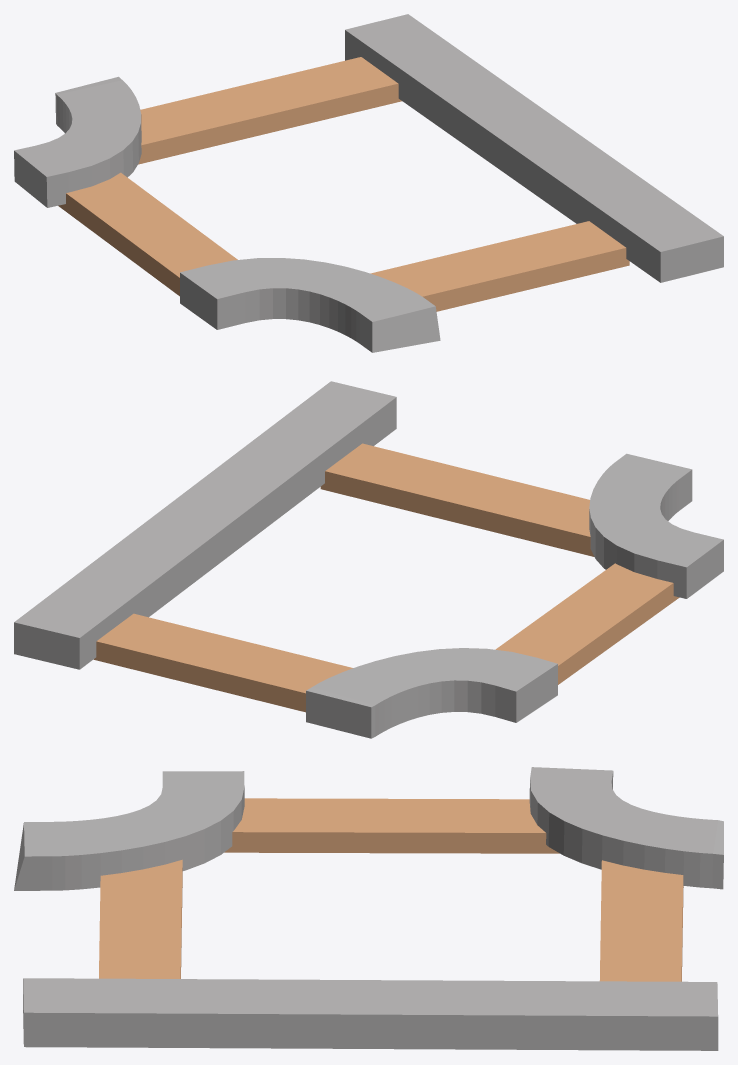
Rendered from Rail3.fbx.
3 views of the same model, one above another, from view 1: azimuth 30°, elevation 25°; view 2: azimuth 150°, elevation 25°; view 3: azimuth 270°, elevation 25° (orthographic). The views are drawn at different scales.
Parts seen in each view (by area): view 1: Rail_3Way; view 2: Rail_3Way; view 3: Rail_3Way.
Boxes of the visible parts, bbox=[...] form: Rail_3Way: bbox=[14, 14, 723, 352]; Rail_3Way: bbox=[14, 381, 723, 738]; Rail_3Way: bbox=[14, 767, 723, 1050].
Size of the model in its own units: 1.65 by 0.1447 by 2.03.
